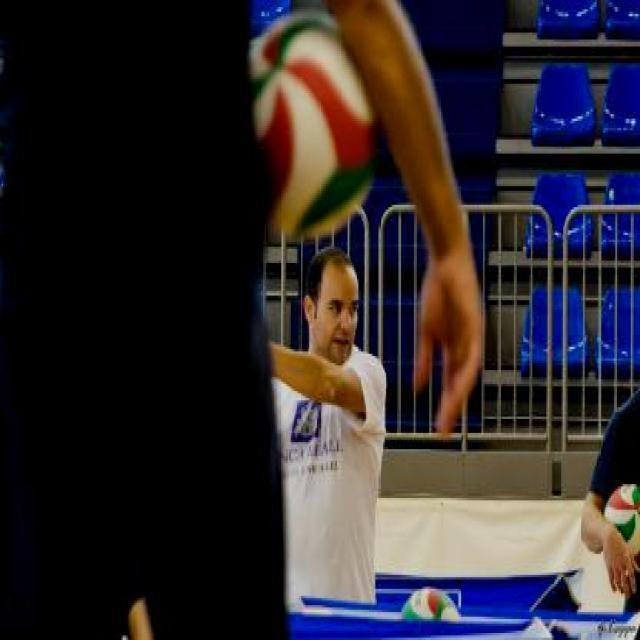volleyball: (249, 11, 376, 240), (603, 483, 639, 560), (402, 587, 464, 622)
